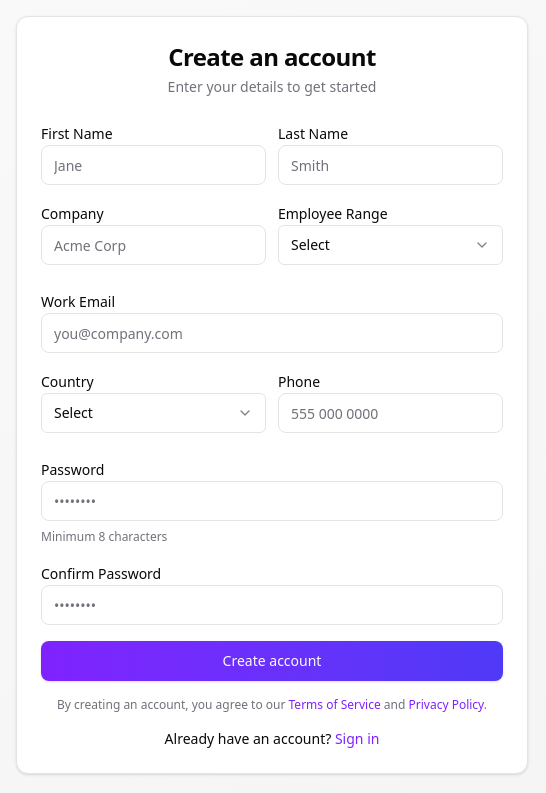
it: SignupClient next handling › stashes a safe next for after verification when email_verified is false
Type "bob@acme.com" into the field labelled "Work Email".
click(272, 333); type("bob@acme.com")  # box left=41, top=313, right=503, bottom=353
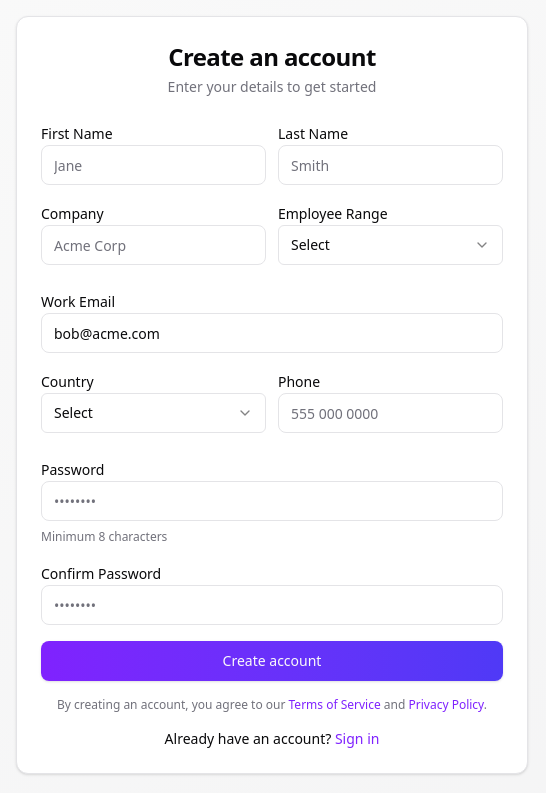
Type "password123" into the password field labelled "Password".
click(272, 501); type("password123")  # box left=41, top=481, right=503, bottom=521
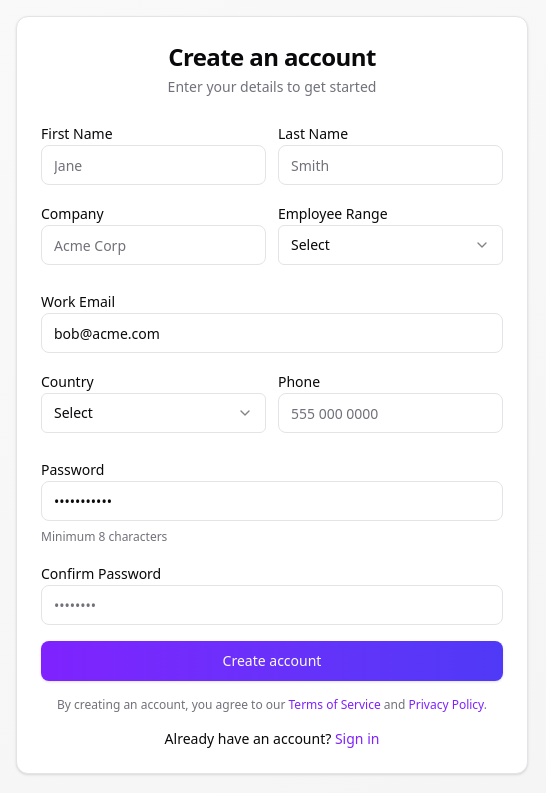
Type "password123" into the password field labelled "Confirm Password".
click(272, 605); type("password123")  # box left=41, top=585, right=503, bottom=625
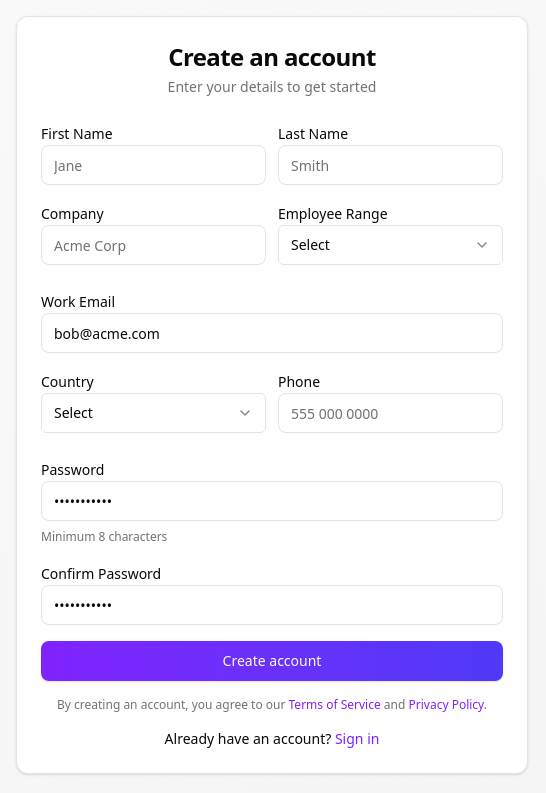
Click the button "Create account".
click(272, 661)  # box left=41, top=641, right=503, bottom=681
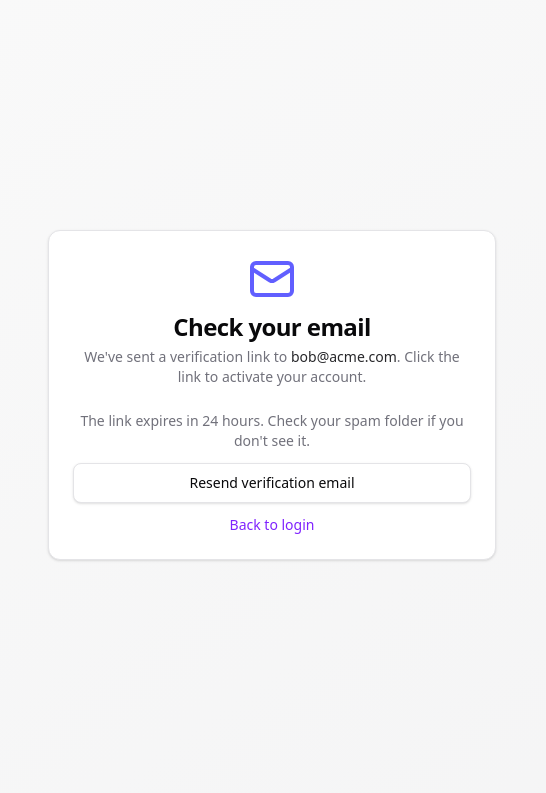
Now the heading "Check your email" is shown, box left=173, top=310, right=371, bottom=343
